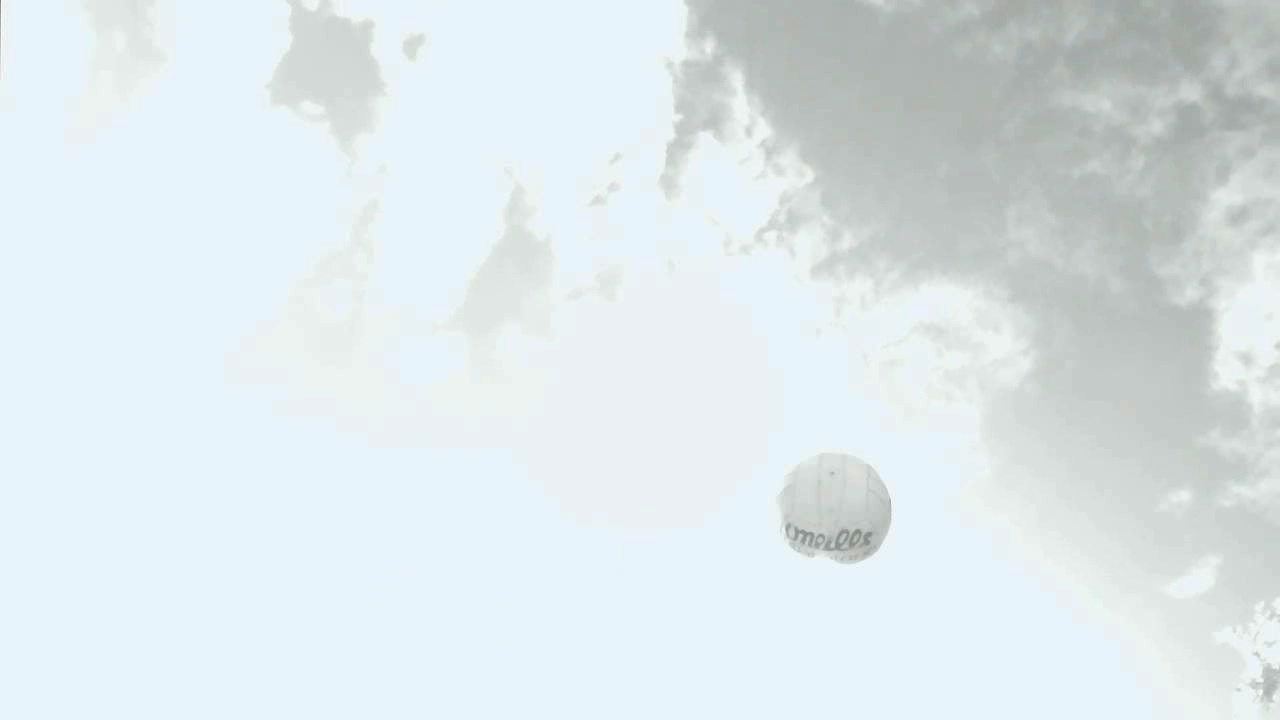Football-Spotter: (778, 452, 891, 563)
